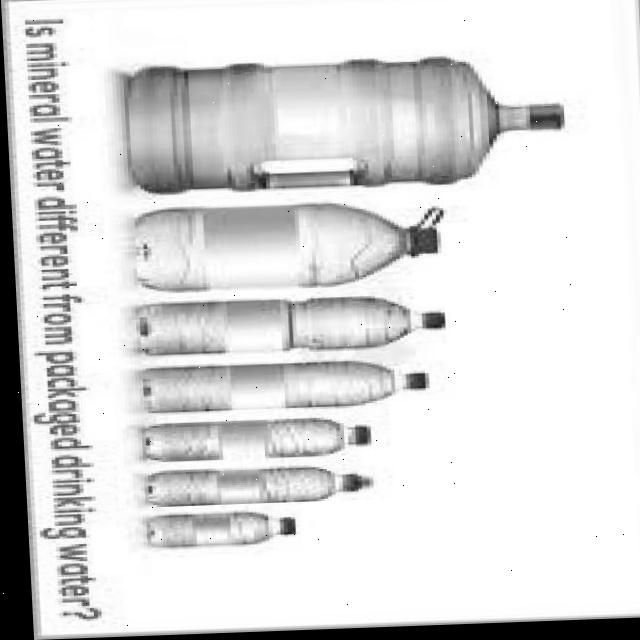bottle: (115, 285, 487, 421)
